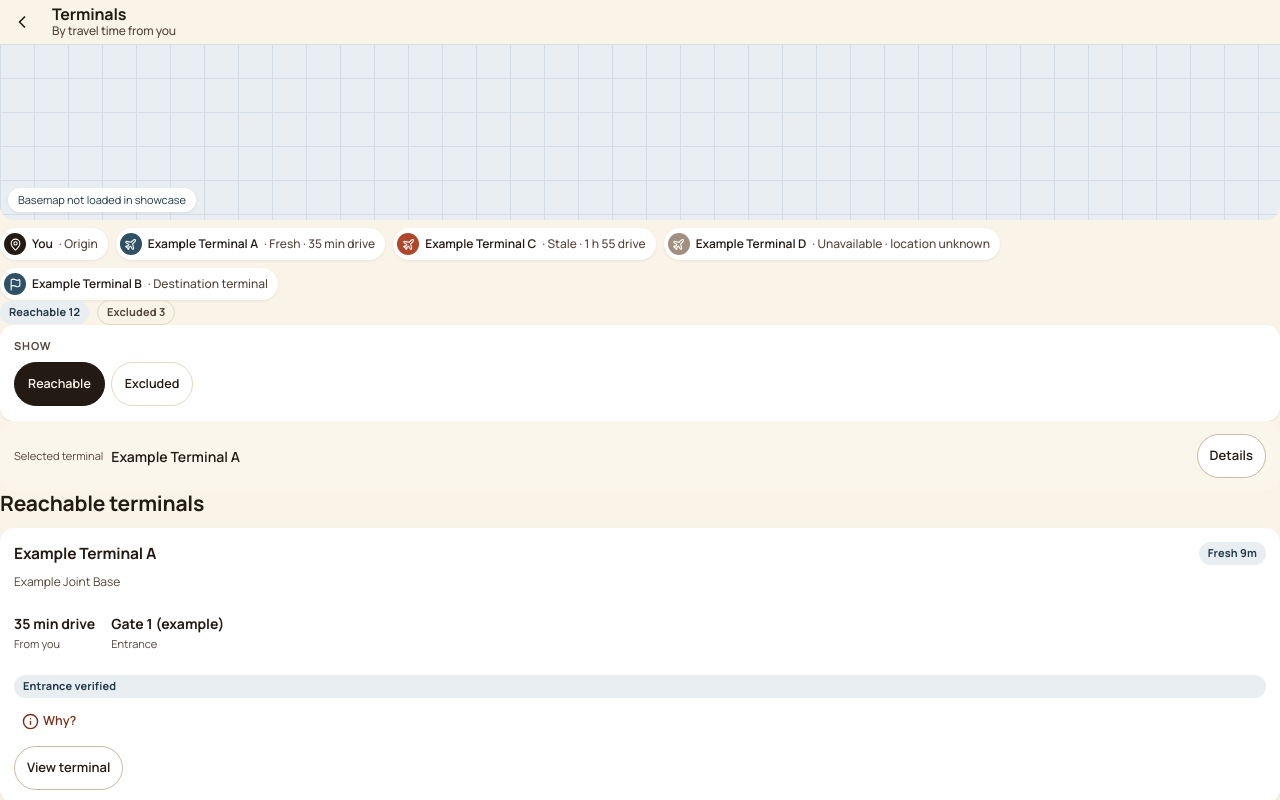
Test: TerminalNetworkScreen › opens a labelled sheet for the selected terminal
Expected: the text "Selected terminal" is shown, [14,448,103,464]
What coordinates should you click on to do the following:
click the button "Details"
I would click on:
 (1231, 456)
Its box is [1196,434,1266,478].
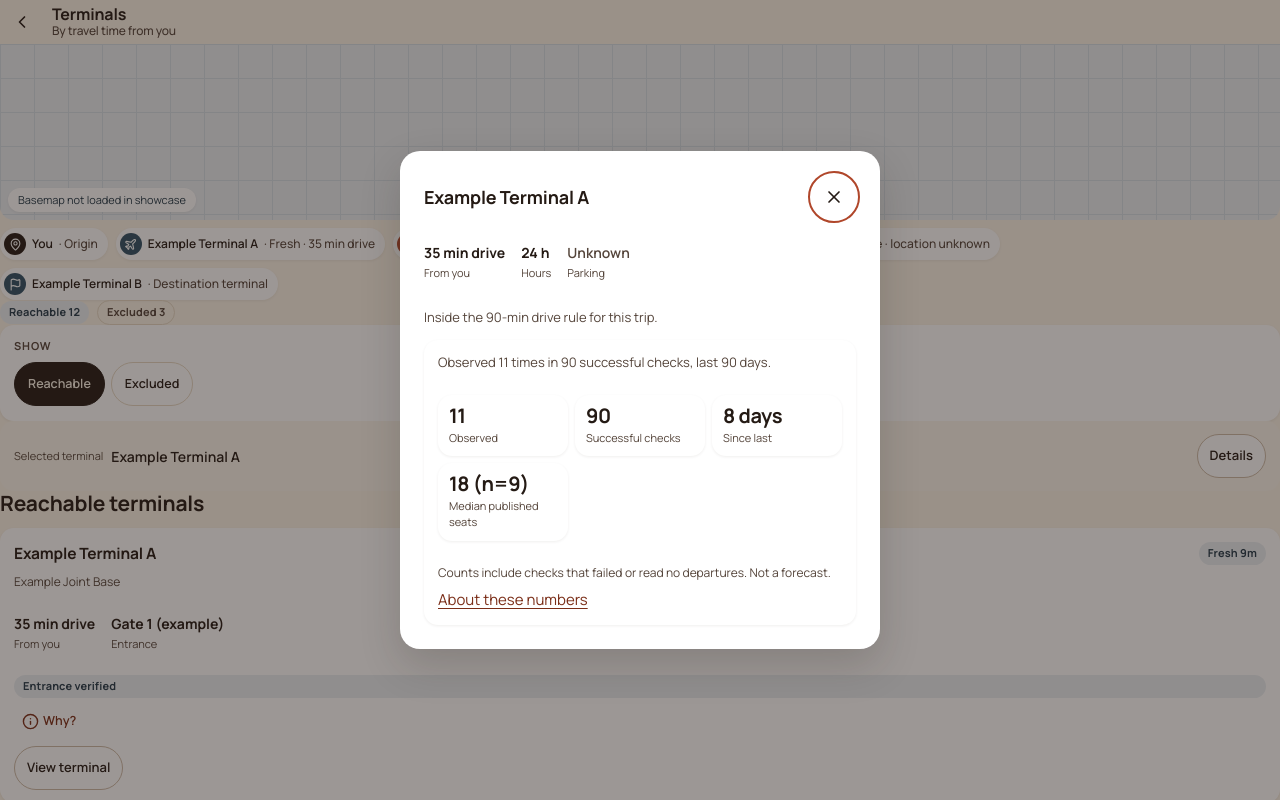
Expected: the text "From you" is shown, [424,265,470,280]
Expected: the text "35 min drive" is shown, [424,243,505,262]
Expected: the text "Inside the 90-min drive rule for this trip." is shown, [424,308,658,326]
